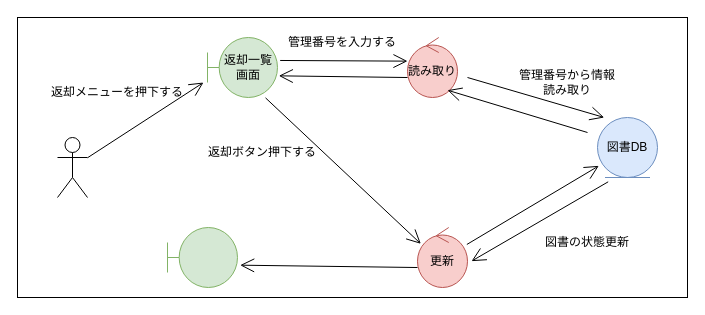
The diagram is 705 pixels wide and 315 high, and some of its shapes have lost their labels. Here are the shapes that lost their labels. From the top down, the box of each, then its label:
(56, 136, 88, 198): 事務職員
(166, 226, 238, 288): 返却完了画面
